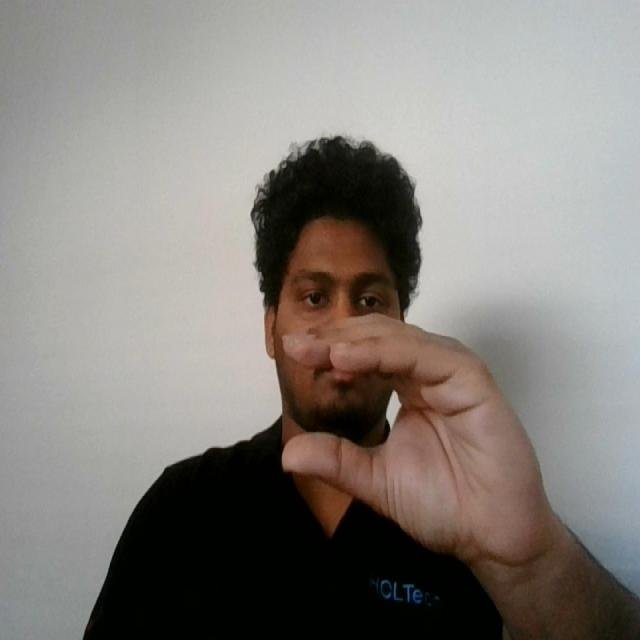No: (271, 305, 566, 581)
